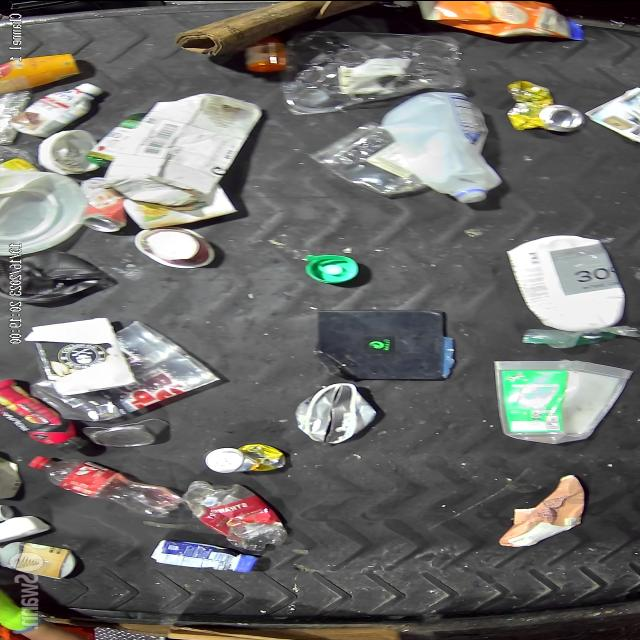can: (292, 378, 386, 442), (504, 78, 592, 134), (195, 440, 294, 479), (76, 416, 181, 448), (73, 190, 133, 233)
milk_jug: (372, 89, 510, 203)
plastic_bottle: (27, 456, 187, 516), (186, 481, 296, 551)
